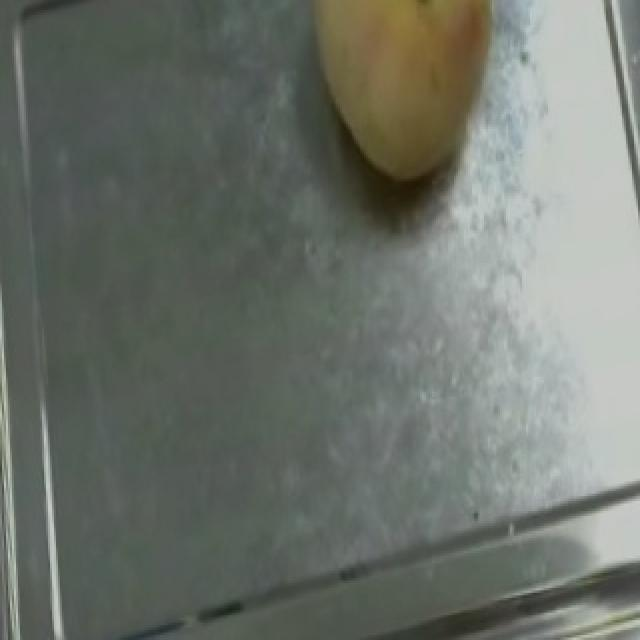Fruit: (284, 0, 524, 201)
